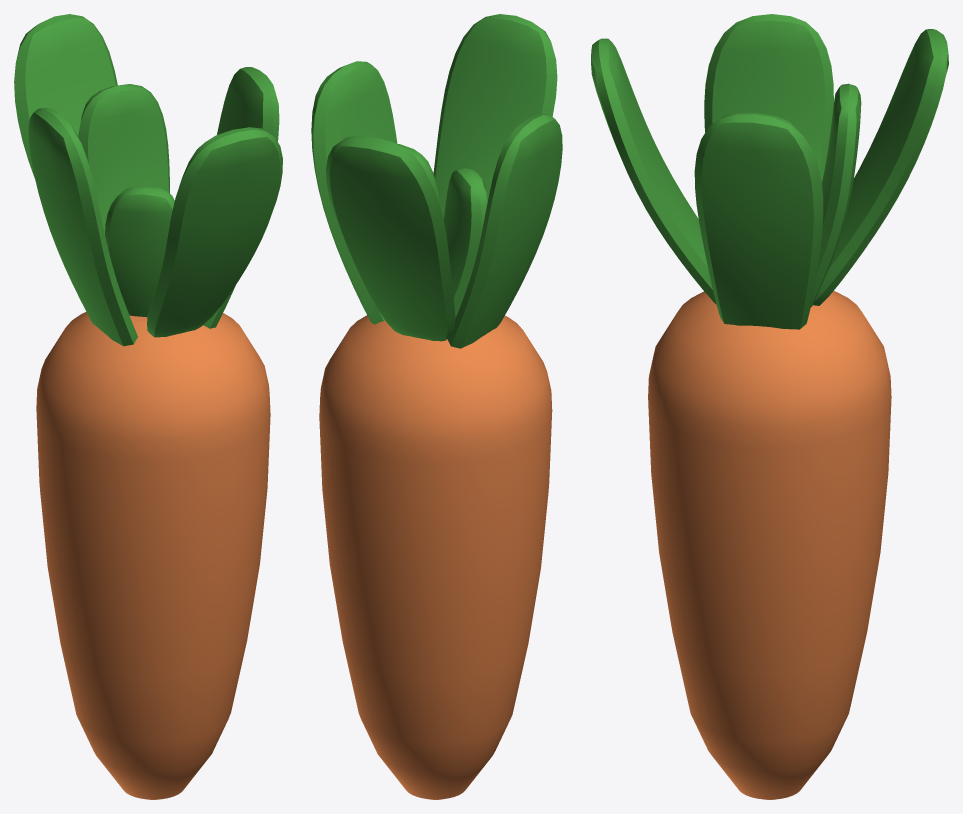
The model's file is carrot_ready.glb.
3 views of the same model, side by side, from view 1: azimuth 30°, elevation 25°; view 2: azimuth 150°, elevation 25°; view 3: azimuth 270°, elevation 25° (orthographic). The views are drawn at different scales.
Visible parts, largest first — view 1: Circle, Plane.001; view 2: Circle, Plane.001; view 3: Circle, Plane.001.
Part boxes in pixels (<box>): Circle: <box>36,312,270,799</box>; Plane.001: <box>14,14,282,346</box>; Circle: <box>319,315,552,799</box>; Plane.001: <box>311,14,562,348</box>; Circle: <box>648,291,891,799</box>; Plane.001: <box>591,14,948,329</box>.
Size of the model in its own units: 1.32 by 4.18 by 1.81.
